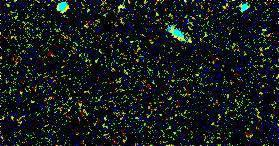star: (102, 0, 132, 23)
